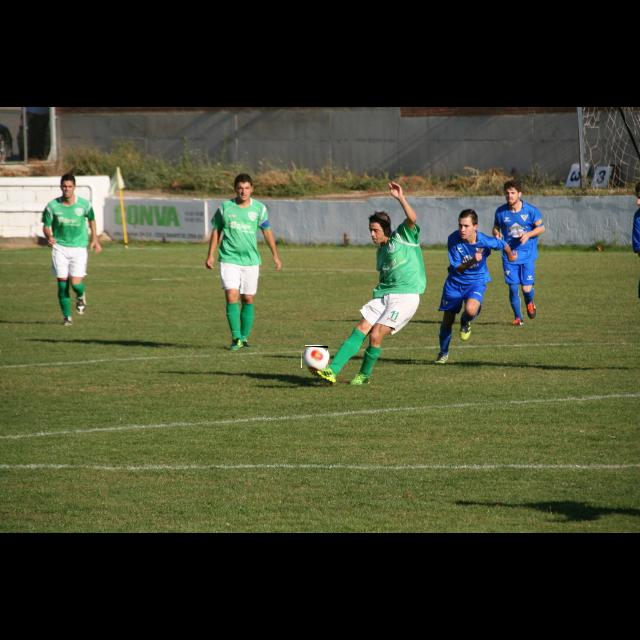Football: (302, 346, 328, 370)
